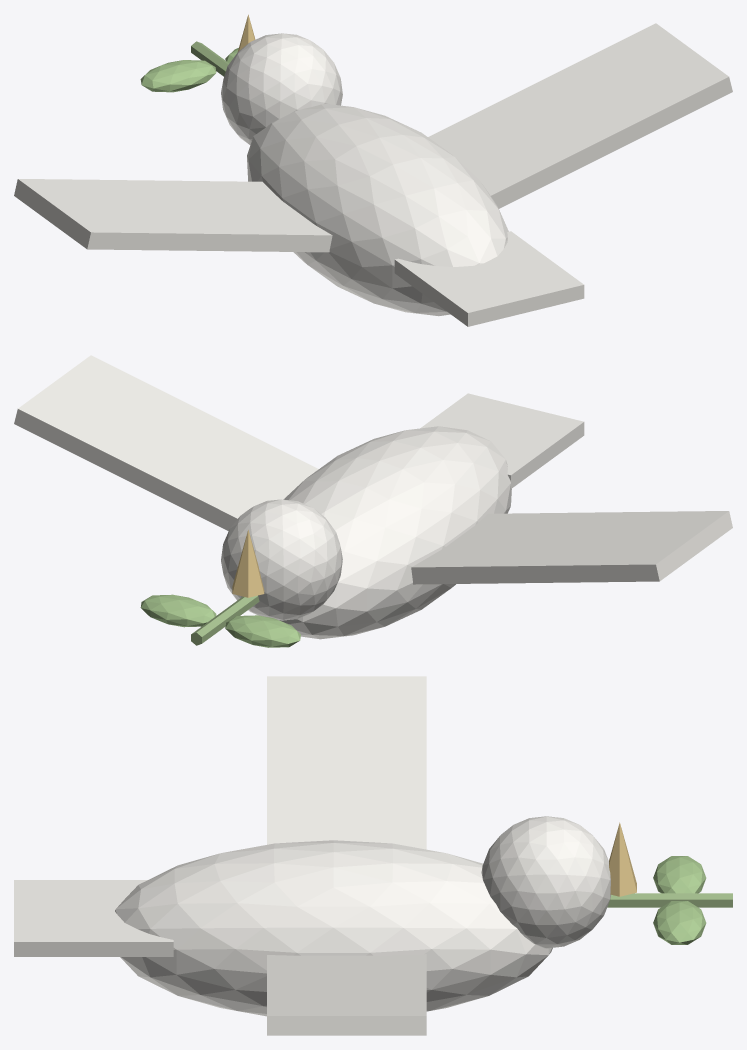
File: ANI_Dove_Olive.glb
The picture shows the model from 3 angles, top to bottom: view 1: azimuth 30°, elevation 25°; view 2: azimuth 150°, elevation 25°; view 3: azimuth 270°, elevation 25°; orthographic projection. The views are drawn at different scales.
Parts seen in each view (by area): view 1: Bird_0, Bird_4, Bird_3, Bird_5, Bird_1, Bird_7, Bird_6; view 2: Bird_0, Bird_4, Bird_3, Bird_1, Bird_5, Bird_7, Bird_8, Bird_2, Bird_6; view 3: Bird_0, Bird_3, Bird_4, Bird_1, Bird_5, Bird_8, Bird_7, Bird_6, Bird_2.
Boxes of the visible parts, x1,y1,x2,y2 form: Bird_0: (247, 104, 508, 316); Bird_4: (428, 23, 732, 208); Bird_3: (14, 179, 332, 252); Bird_5: (394, 231, 584, 326); Bird_1: (221, 33, 342, 144); Bird_7: (140, 60, 216, 92); Bird_6: (191, 41, 229, 76); Bird_0: (279, 426, 511, 639); Bird_4: (14, 355, 318, 530); Bird_3: (411, 511, 732, 584); Bird_1: (221, 499, 342, 620); Bird_5: (420, 393, 584, 488); Bird_7: (225, 615, 300, 647); Bird_8: (140, 594, 216, 627); Bird_2: (232, 530, 264, 597); Bird_6: (191, 595, 259, 645); Bird_0: (115, 840, 552, 1016); Bird_3: (267, 676, 426, 849); Bird_4: (267, 954, 426, 1035); Bird_1: (481, 816, 610, 948); Bird_5: (14, 880, 173, 956); Bird_8: (653, 901, 706, 944); Bird_7: (653, 856, 706, 893); Bird_6: (607, 893, 732, 907); Bird_2: (609, 822, 636, 896).
Size of the model in its own units: 1.22 by 0.31 by 1.08.
